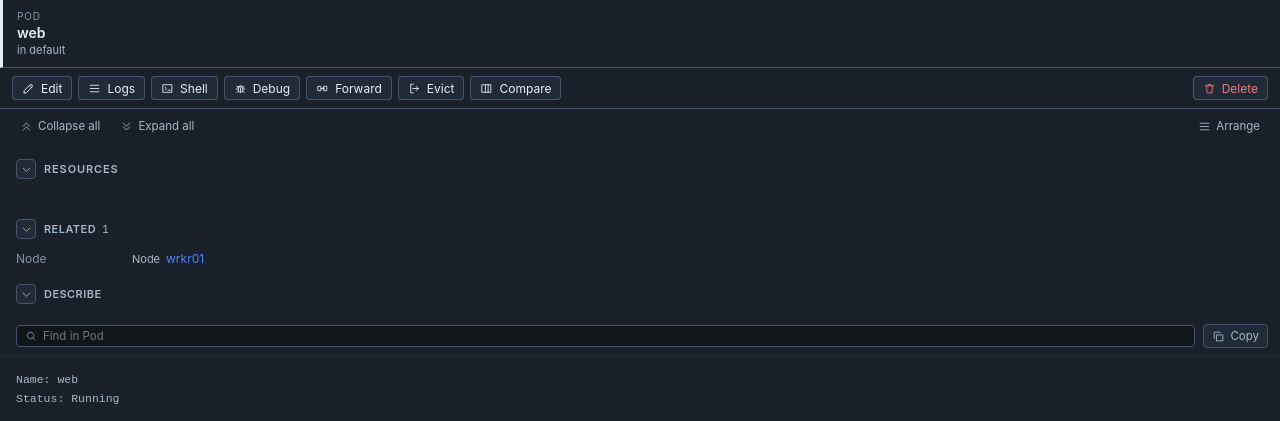
Test: a related object opens in the same panel
Click the button "wrkr01" at (185, 258), box [166, 251, 204, 266]
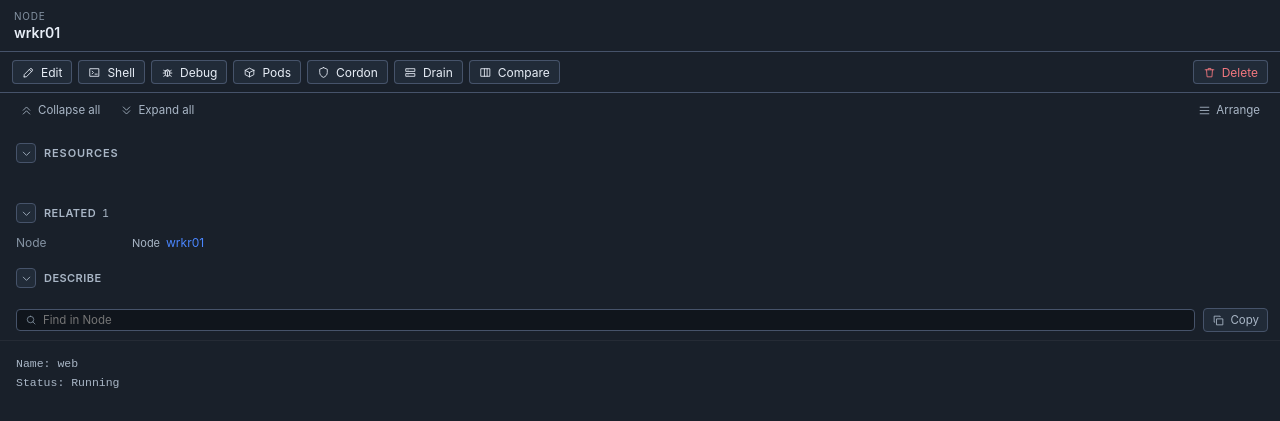
Expected: the heading "wrkr01" is shown, [14, 24, 60, 41]
